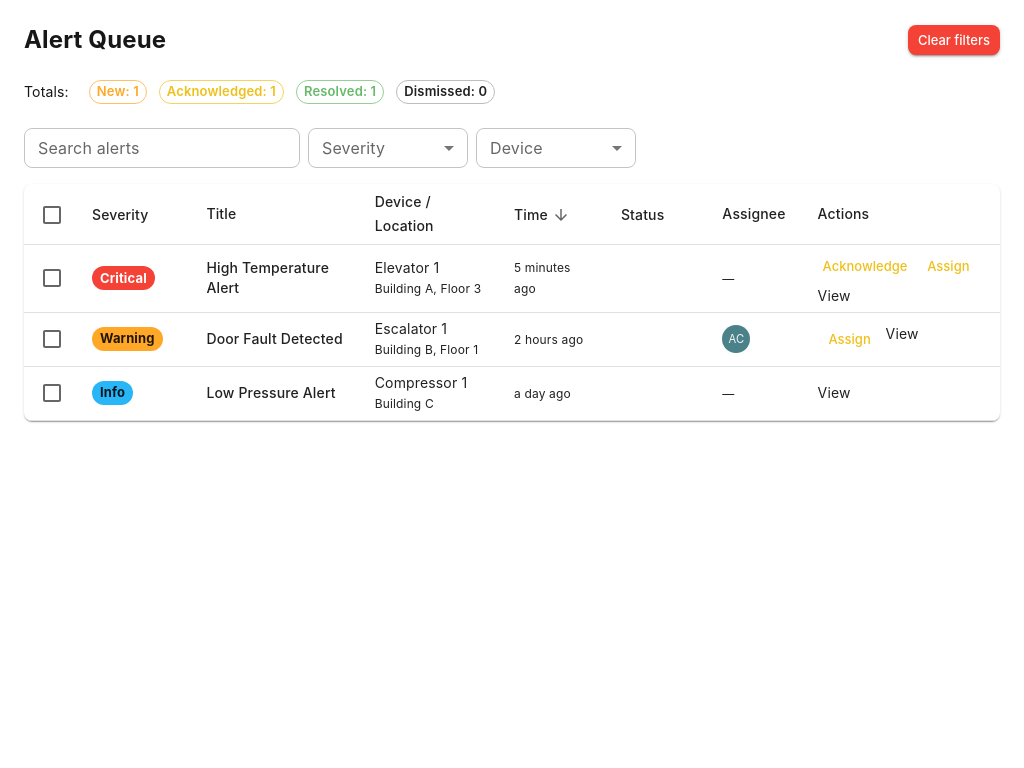
Test: AlertsPage › clicking acknowledge updates row
The image size is (1024, 768).
Click the button with test id "ack-btn-alert-1" at [865, 266], box [818,251,912,282]
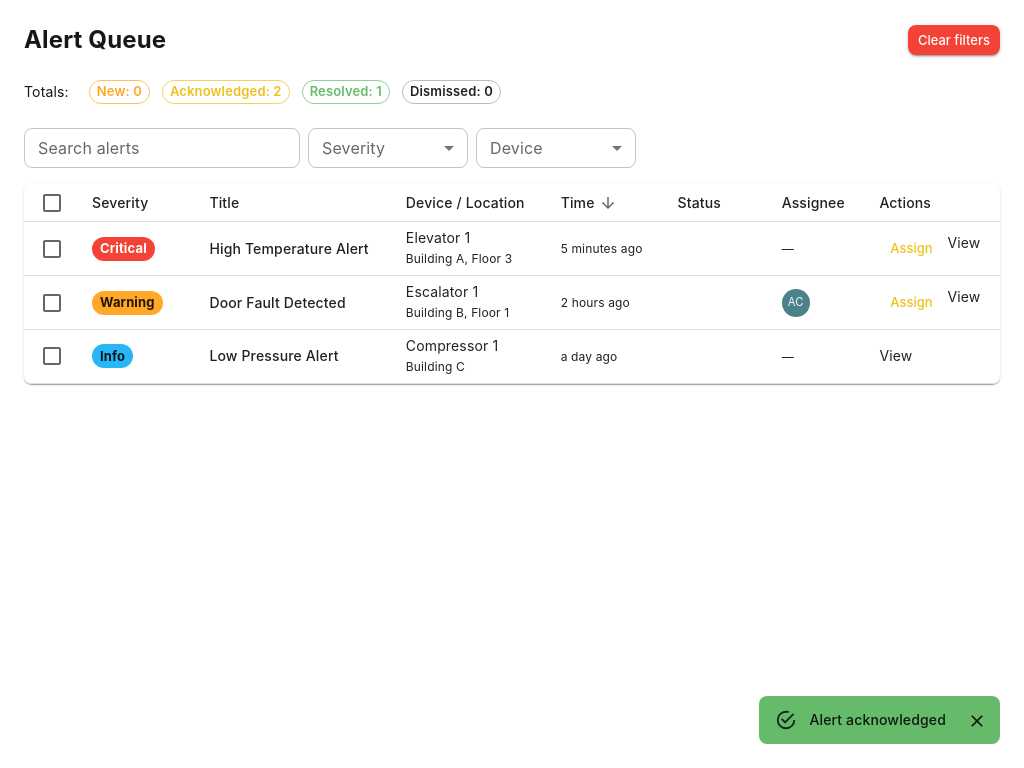
Check: the button with test id "ack-btn-alert-1" is gone
